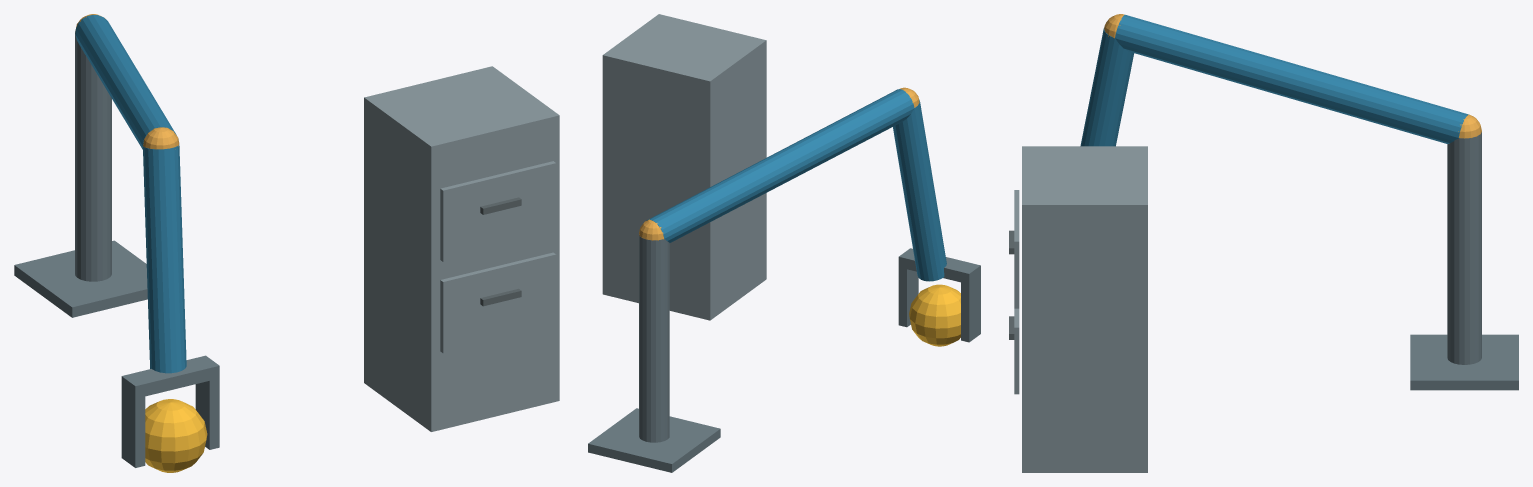
3 renders of one model, left to right at view 1: azimuth 30°, elevation 25°; view 2: azimuth 150°, elevation 25°; view 3: azimuth 270°, elevation 25°, orthographic. The views are drawn at different scales.
Visible parts, largest first — view 1: cabinet_1 body, cabinet_1 drawer front, cabinet_1 drawer front.001, moving link 2, fixed post, pedestal, moving link 1, ball ball_1, gripper bridge, gripper finger -1, gripper finger 1, joint 2; view 2: cabinet_1 body, moving link 1, fixed post, moving link 2, pedestal, ball ball_1, gripper finger -1, gripper bridge, gripper finger 1; view 3: cabinet_1 body, moving link 1, fixed post, pedestal, moving link 2, cabinet_1 drawer front.001.
Part boxes in pixels (x1=…): cabinet_1 body: x1=364, y1=66, x2=559, y2=431; cabinet_1 drawer front: x1=440, y1=252, x2=556, y2=353; cabinet_1 drawer front.001: x1=440, y1=161, x2=556, y2=261; moving link 2: x1=143, y1=144, x2=186, y2=373; fixed post: x1=75, y1=31, x2=111, y2=281; pedestal: x1=14, y1=240, x2=147, y2=317; moving link 1: x1=75, y1=14, x2=176, y2=149; ball ball_1: x1=145, y1=399, x2=207, y2=472; gripper bridge: x1=121, y1=355, x2=219, y2=398; gripper finger -1: x1=121, y1=389, x2=145, y2=467; gripper finger 1: x1=195, y1=378, x2=219, y2=449; joint 2: x1=143, y1=127, x2=179, y2=150; cabinet_1 body: x1=602, y1=14, x2=766, y2=320; moving link 1: x1=646, y1=89, x2=914, y2=242; fixed post: x1=639, y1=234, x2=669, y2=442; moving link 2: x1=893, y1=99, x2=946, y2=281; pedestal: x1=588, y1=408, x2=720, y2=472; ball ball_1: x1=909, y1=284, x2=960, y2=346; gripper finger -1: x1=961, y1=276, x2=980, y2=342; gripper bridge: x1=898, y1=248, x2=980, y2=284; gripper finger 1: x1=898, y1=267, x2=918, y2=327; cabinet_1 body: x1=1022, y1=146, x2=1147, y2=472; moving link 1: x1=1115, y1=15, x2=1468, y2=143; fixed post: x1=1447, y1=132, x2=1481, y2=364; pedestal: x1=1410, y1=334, x2=1518, y2=390; moving link 2: x1=1080, y1=28, x2=1133, y2=146; cabinet_1 drawer front.001: x1=1014, y1=190, x2=1019, y2=308.
Bounding box in the file's own units: 1.01 × 0.7591 × 1.17.
